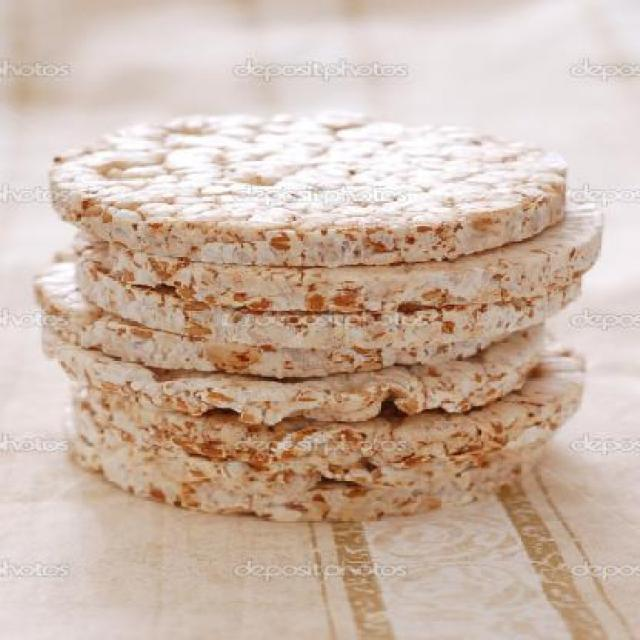Gallette di riso packaged: (30, 113, 599, 524)
